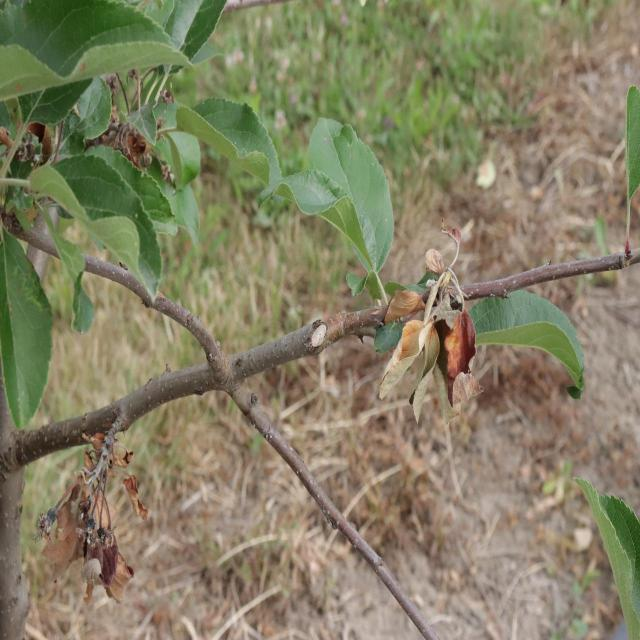-FireBlight-: (377, 260, 488, 418)
